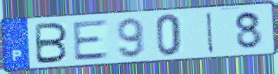0: (154, 13, 186, 58)
8: (234, 10, 266, 50)
9: (115, 16, 146, 59)
B: (34, 22, 69, 66)
E: (71, 18, 112, 63)
I: (205, 10, 216, 55)
